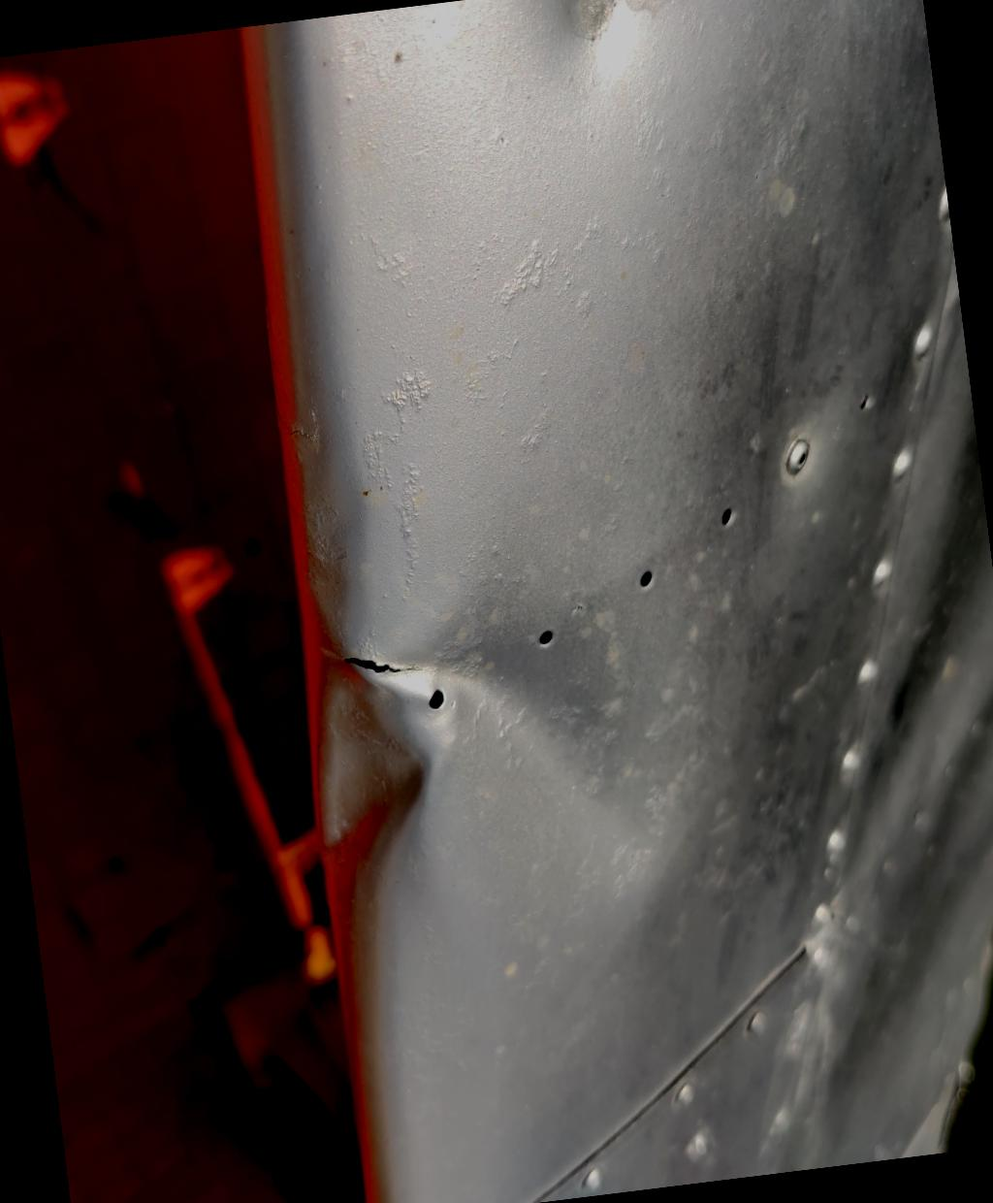crack: (323, 618, 437, 706)
dent: (246, 552, 682, 962)
